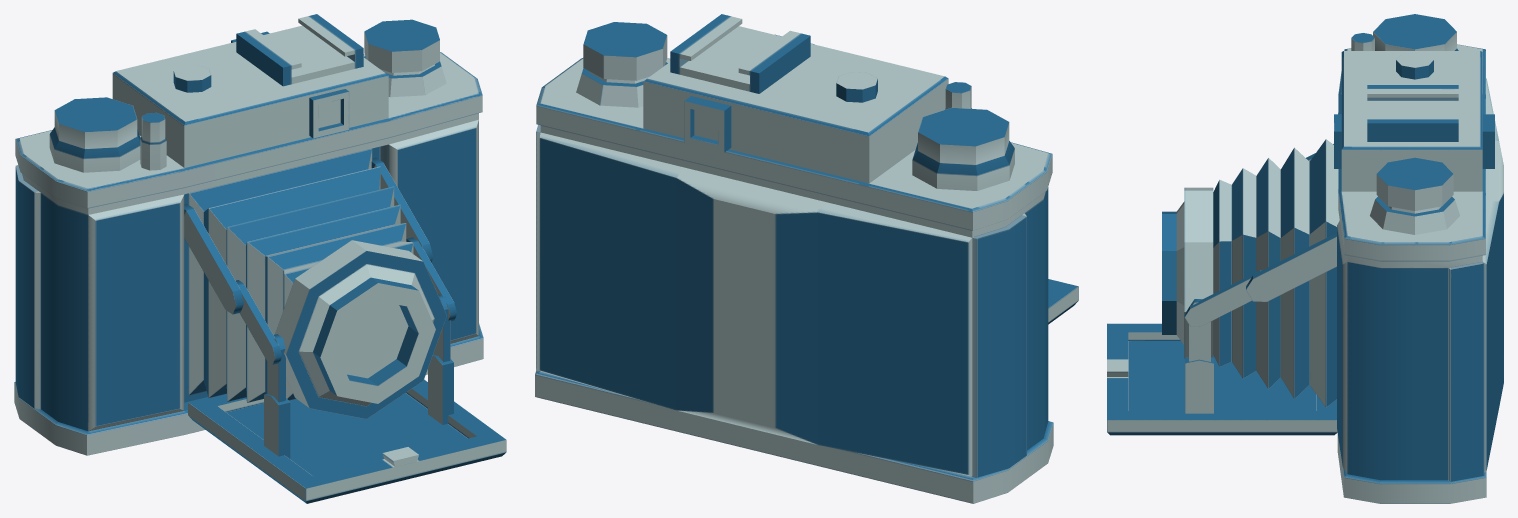
The model's file is Camera.fbx.
3 views of the same model, side by side, from view 1: azimuth 30°, elevation 25°; view 2: azimuth 150°, elevation 25°; view 3: azimuth 270°, elevation 25° (orthographic). The views are drawn at different scales.
Visible parts, largest first — view 1: pCube1, pCube2, pCylinder1, pCube3, pCylinder2, pCube4, pCylinder3, pCube8, pCube14, pCube13, pCube6, pCylinder4 (+6 smaller); view 2: pCube1, pCylinder2, pCube4, pCylinder3, pCube14, pCylinder5, pCube3, pCylinder4; view 3: pCube1, pCube2, pCube3, pCylinder1, pCylinder3, pCube4, pCube22, pCylinder2, pCube23, pCube13, pCube14, pCylinder5 (+1 smaller).
Part boxes in pixels (x1=…): pCube1: x1=14, y1=25, x2=483, y2=455; pCube2: x1=188, y1=148, x2=413, y2=402; pCylinder1: x1=275, y1=240, x2=446, y2=419; pCube3: x1=188, y1=379, x2=506, y2=503; pCylinder2: x1=49, y1=97, x2=140, y2=172; pCube4: x1=236, y1=14, x2=363, y2=86; pCylinder3: x1=364, y1=19, x2=446, y2=97; pCube8: x1=184, y1=204, x2=243, y2=314; pCube14: x1=231, y1=31, x2=349, y2=138; pCube13: x1=428, y1=354, x2=453, y2=424; pCube6: x1=264, y1=393, x2=290, y2=458; pCylinder4: x1=140, y1=112, x2=166, y2=170; pCube1: x1=535, y1=26, x2=1053, y2=503; pCylinder2: x1=912, y1=107, x2=1014, y2=190; pCube4: x1=670, y1=14, x2=810, y2=93; pCylinder3: x1=576, y1=22, x2=667, y2=107; pCube14: x1=684, y1=34, x2=814, y2=152; pCylinder5: x1=836, y1=72, x2=877, y2=102; pCube3: x1=1048, y1=279, x2=1078, y2=324; pCylinder4: x1=945, y1=82, x2=971, y2=109; pCube1: x1=1337, y1=44, x2=1503, y2=503; pCube2: x1=1213, y1=139, x2=1339, y2=407; pCube3: x1=1107, y1=323, x2=1337, y2=435; pCylinder1: x1=1162, y1=187, x2=1213, y2=358; pCylinder3: x1=1370, y1=157, x2=1459, y2=234; pCube4: x1=1367, y1=85, x2=1458, y2=141; pCube22: x1=1246, y1=233, x2=1336, y2=301; pCylinder2: x1=1373, y1=14, x2=1458, y2=50; pCube23: x1=1184, y1=270, x2=1261, y2=326; pCube13: x1=1185, y1=357, x2=1213, y2=413; pCube14: x1=1334, y1=114, x2=1494, y2=168; pCylinder5: x1=1396, y1=52, x2=1433, y2=79.
Size of the model in its own units: 1.66 by 1.24 by 1.37.
